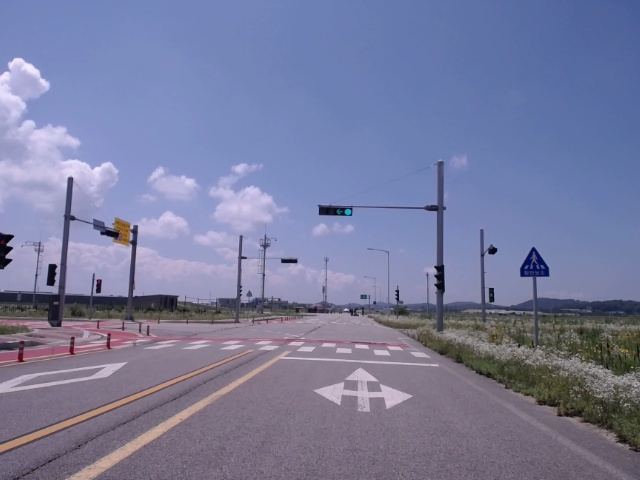all_green_4: (318, 203, 354, 215)
